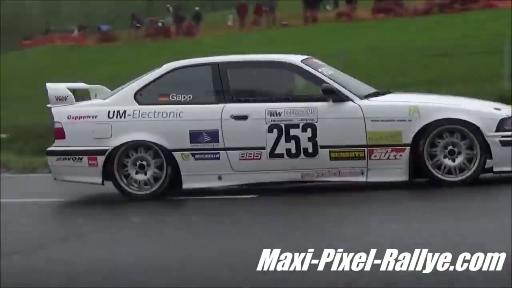CAR: (38, 45, 512, 203)
